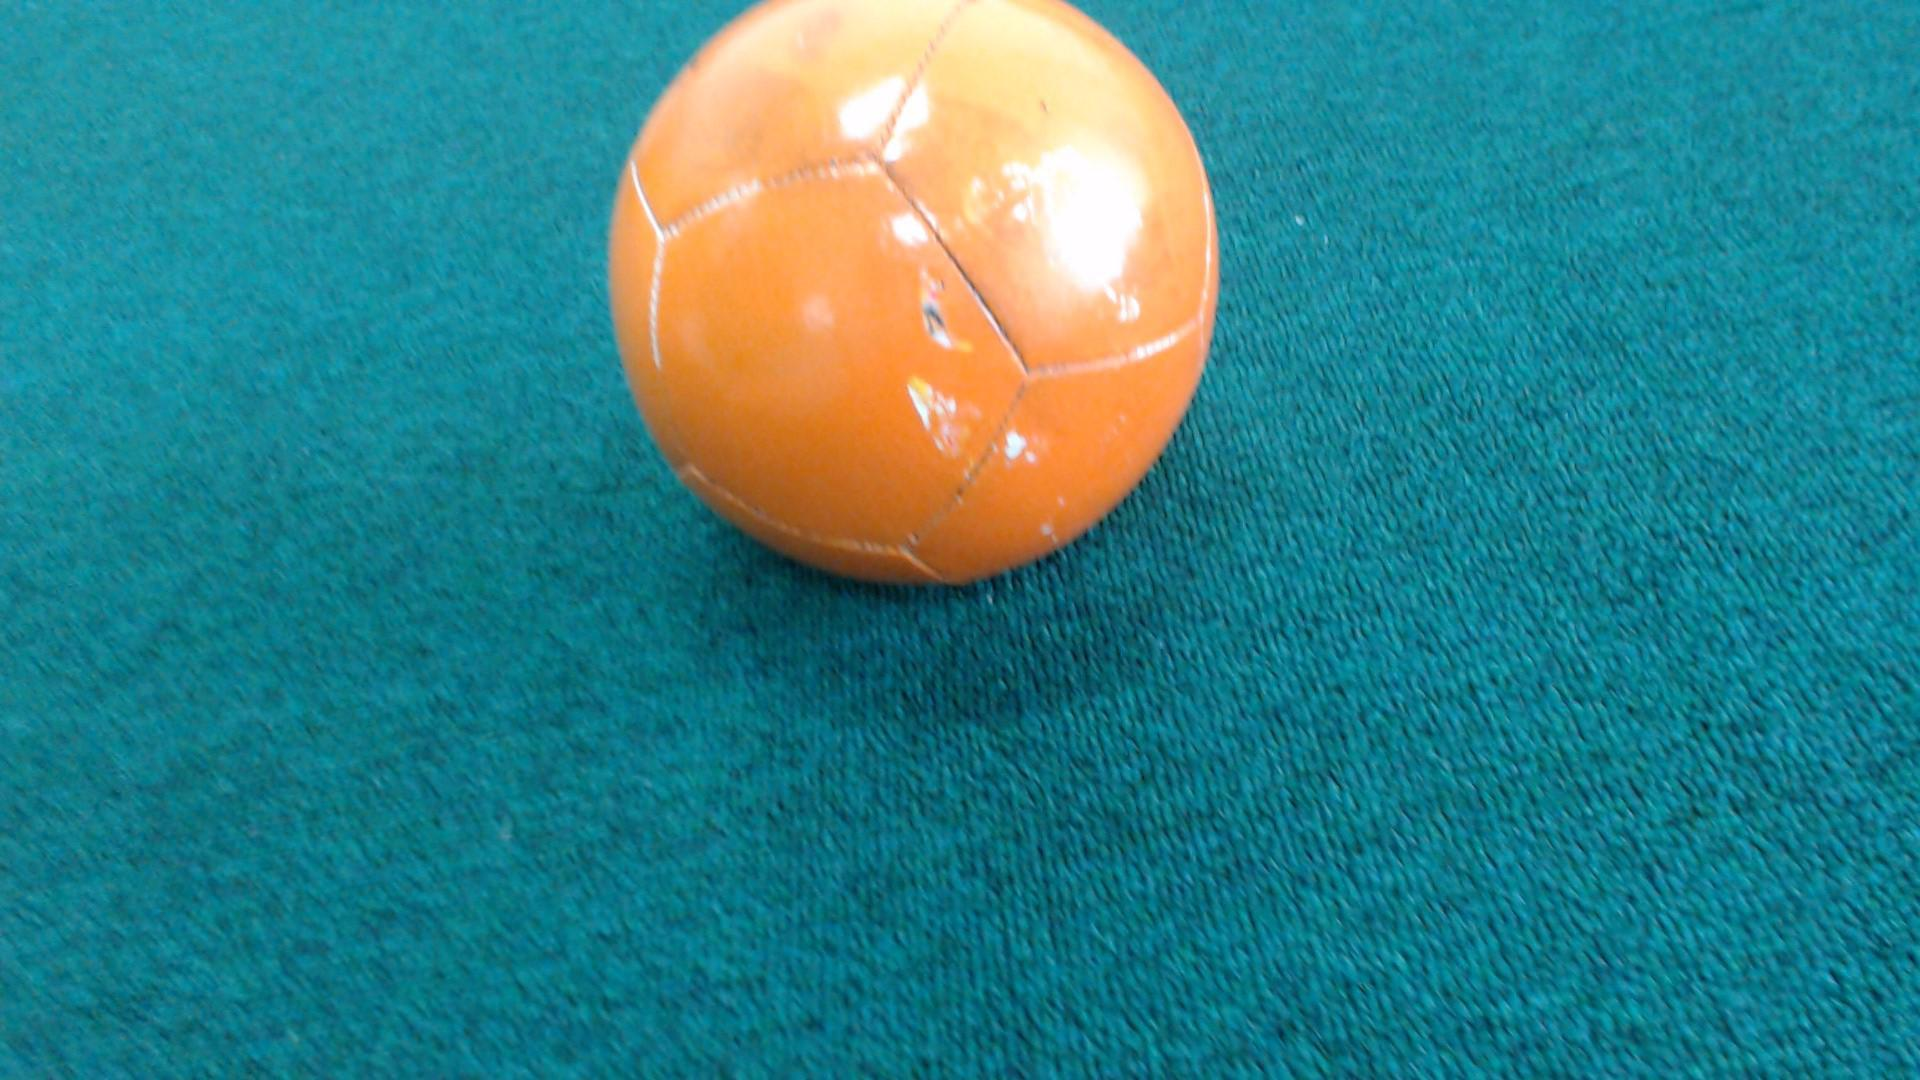bola: (601, 0, 1234, 622)
